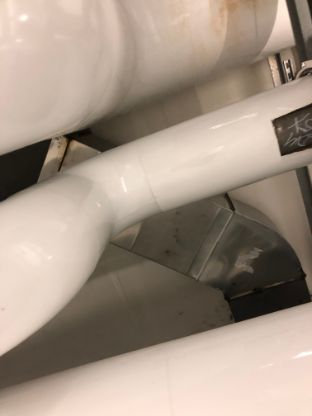Duct: (101, 192, 312, 325)
